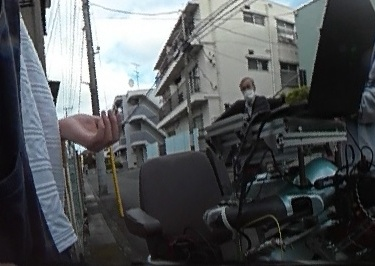person: (234, 76, 270, 115)
